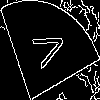V: (25, 25, 68, 74)
